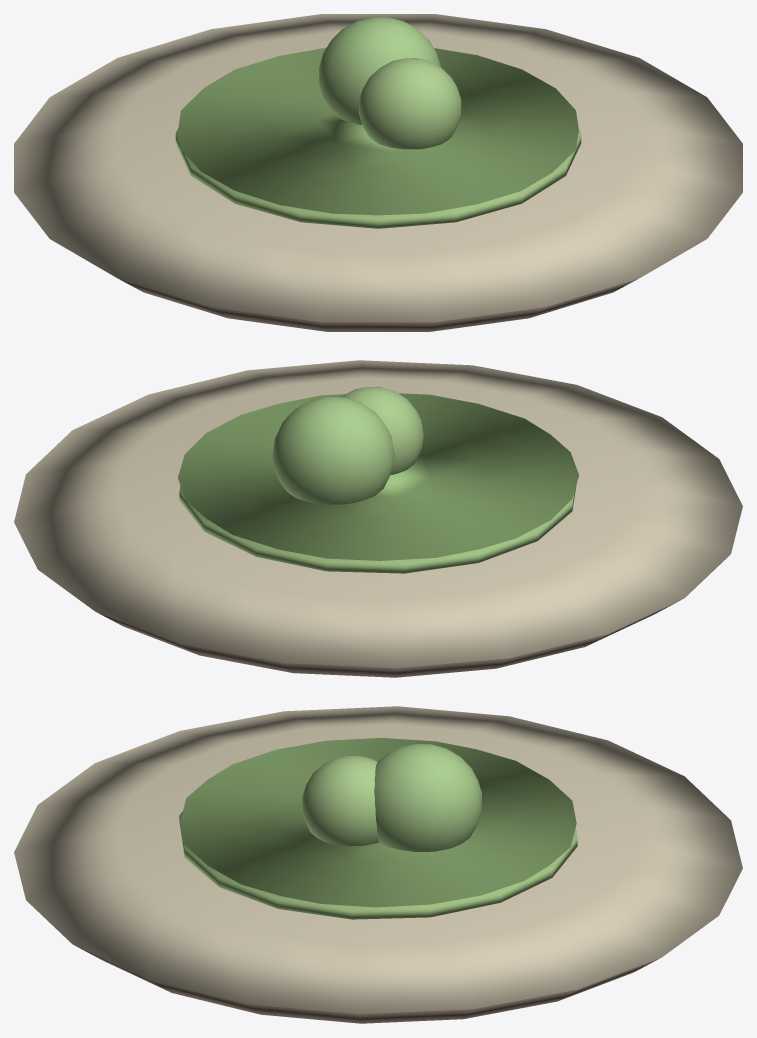
Rendered from terrain_island_01.glb.
The picture shows the model from 3 angles, top to bottom: view 1: azimuth 30°, elevation 25°; view 2: azimuth 150°, elevation 25°; view 3: azimuth 270°, elevation 25°; orthographic projection.
Parts seen in each view (by area): view 1: island_sand, island_grass_dome, hill1, hill0, island_grass_base, island_base; view 2: island_sand, island_grass_dome, hill0, island_grass_base, island_base, hill1; view 3: island_sand, island_grass_dome, hill0, hill1, island_grass_base, island_base.
Part boxes in pixels (box(x1,y1,x2,y2)): island_sand: box(14, 14, 742, 322); island_grass_dome: box(178, 47, 578, 215); hill1: box(359, 58, 461, 149); hill0: box(319, 17, 440, 124); island_grass_base: box(175, 128, 581, 228); island_base: box(119, 279, 637, 331); island_sand: box(14, 360, 742, 668); island_grass_dome: box(178, 393, 578, 560); hill0: box(272, 397, 394, 504); island_grass_base: box(179, 468, 577, 573); island_base: box(95, 599, 682, 677); hill1: box(341, 386, 423, 475); island_sand: box(14, 706, 742, 1014); island_grass_dome: box(180, 738, 576, 907); hill0: box(374, 744, 481, 851); hill1: box(302, 755, 379, 846); island_grass_base: box(179, 811, 577, 919); island_base: box(74, 945, 661, 1023).
Size of the model in its own units: 160 by 35.57 by 160.
